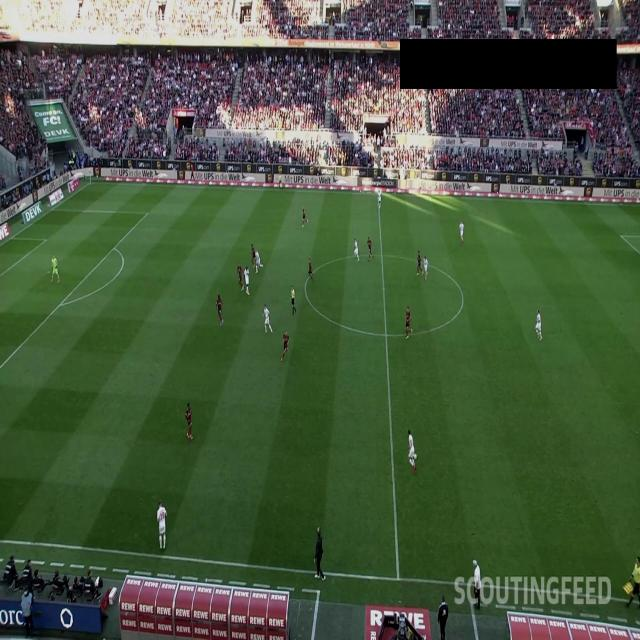goalkeeper: (50, 254, 60, 284)
player: (156, 500, 168, 550), (408, 428, 417, 472), (262, 304, 274, 334), (280, 330, 290, 362), (185, 402, 193, 440), (216, 294, 224, 326), (535, 309, 543, 341), (254, 247, 263, 274), (405, 305, 412, 339), (244, 265, 250, 295), (353, 238, 360, 262), (250, 243, 256, 270), (367, 237, 374, 260), (237, 264, 243, 290), (416, 250, 422, 276), (459, 220, 465, 245), (423, 256, 429, 280), (308, 258, 314, 282), (377, 188, 383, 210), (302, 207, 308, 228)
referee: (626, 555, 640, 608), (290, 285, 296, 315), (278, 172, 283, 190)
